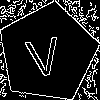V: (23, 28, 63, 78)
